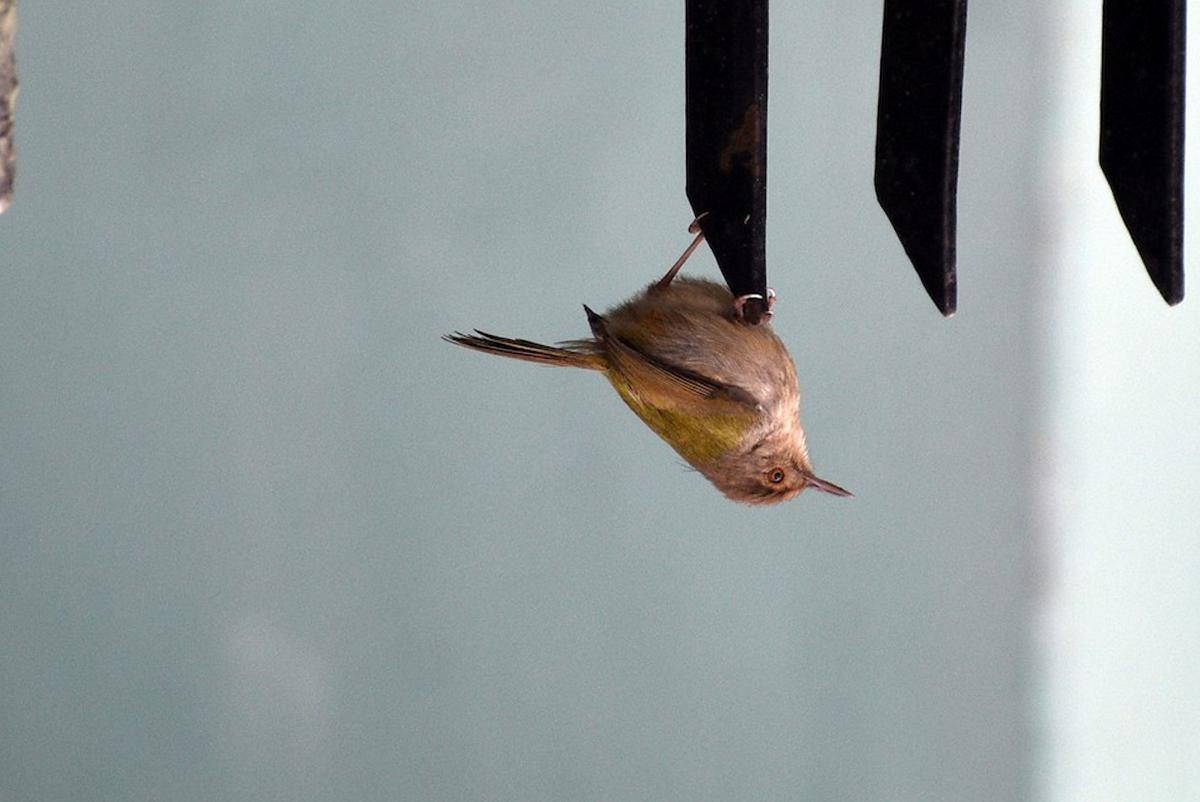tailorbird: (446, 223, 898, 541)
